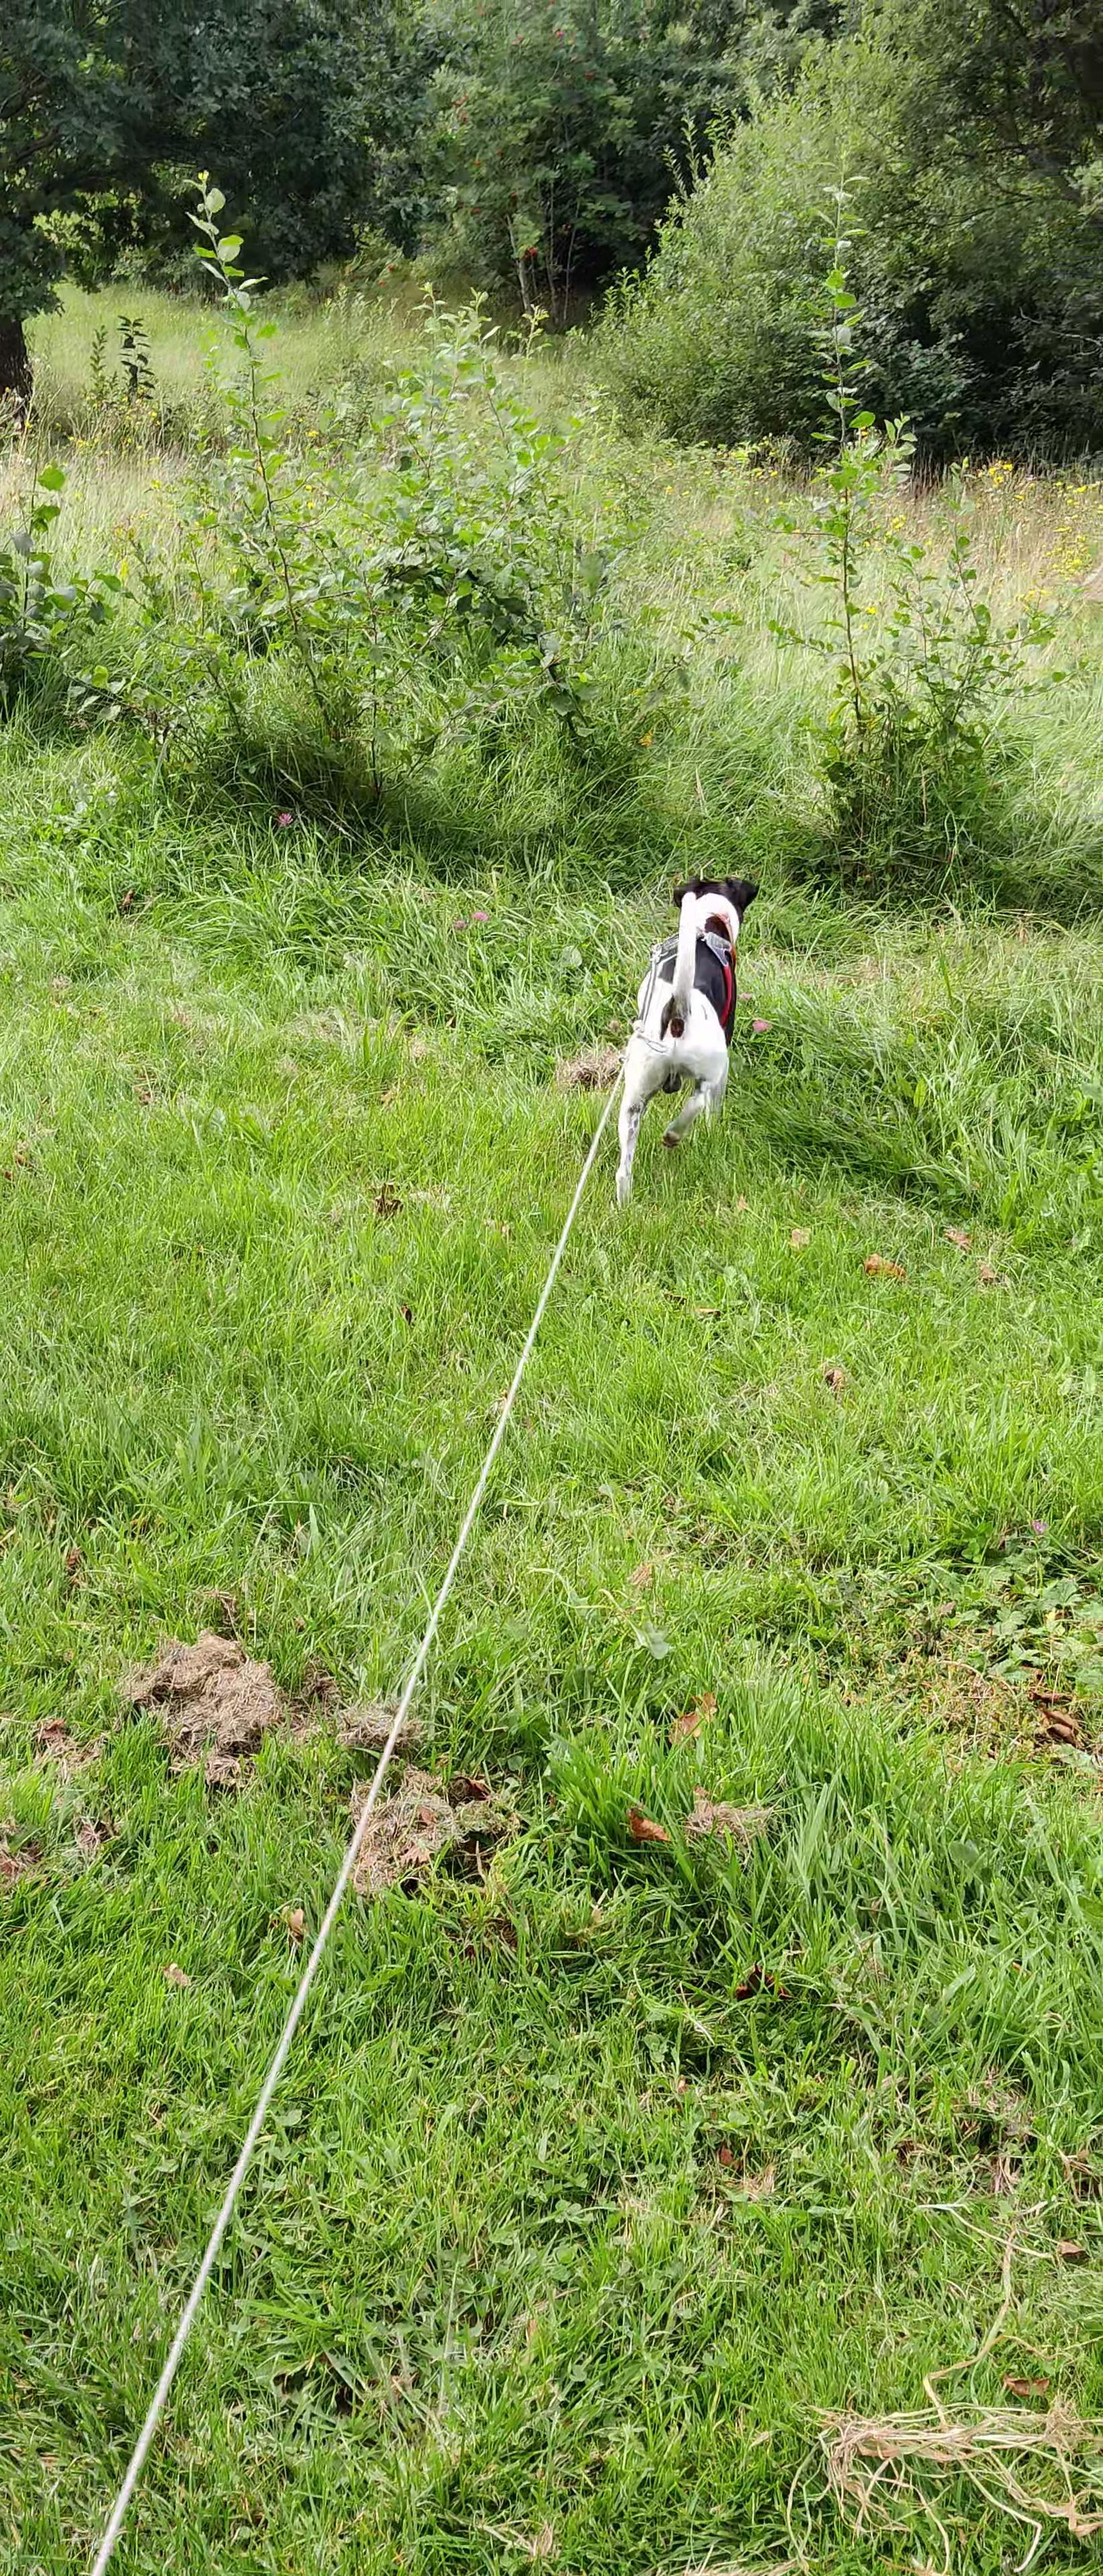Dog: (607, 866, 764, 1204)
